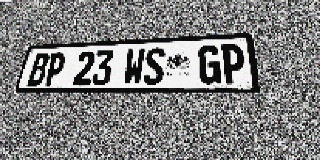2: (73, 51, 96, 86)
3: (91, 50, 114, 85)
B: (27, 53, 51, 86)
G: (199, 45, 221, 84)
P: (221, 44, 246, 84), (43, 52, 67, 86)
S: (143, 47, 165, 85)
W: (123, 48, 145, 85)
